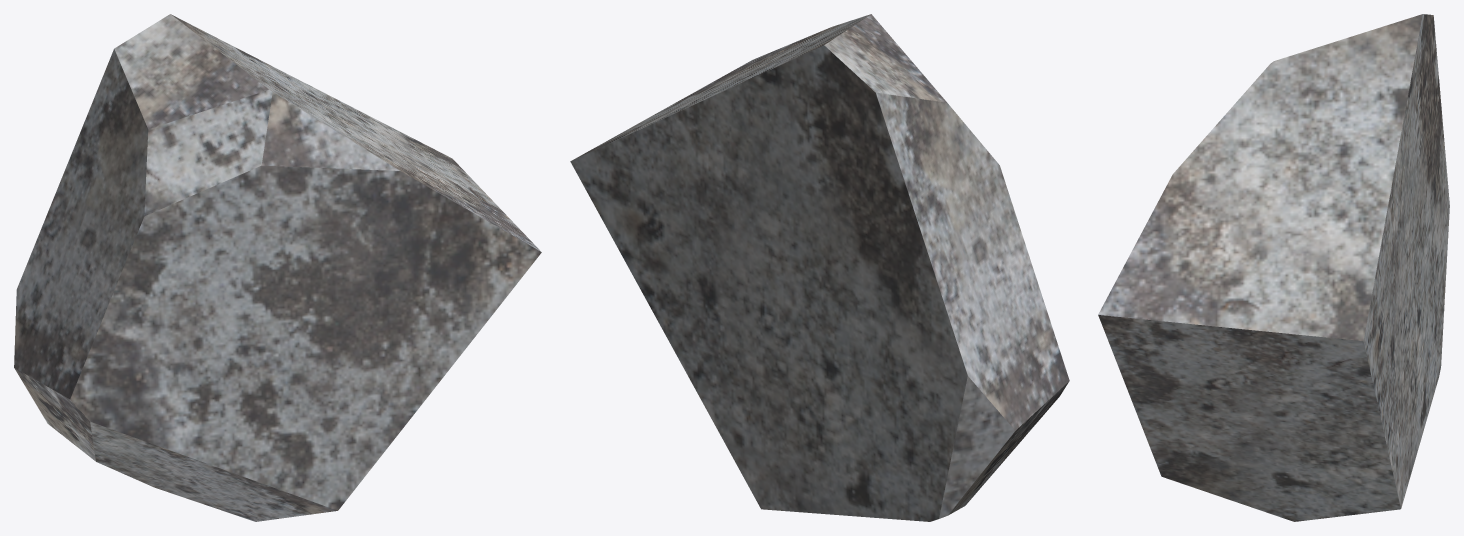
Rendered from Asteroid_Large_001_02_006_03_015.fbx.
The picture shows the model from 3 angles, left to right: view 1: azimuth 30°, elevation 25°; view 2: azimuth 150°, elevation 25°; view 3: azimuth 270°, elevation 25°; orthographic projection. The views are drawn at different scales.
Parts seen in each view (by area): view 1: Asteroid_Large_001_02_006_03_015; view 2: Asteroid_Large_001_02_006_03_015; view 3: Asteroid_Large_001_02_006_03_015.
Part boxes in pixels (x1,y1,x2,y2): Asteroid_Large_001_02_006_03_015: [14, 14, 541, 521]; Asteroid_Large_001_02_006_03_015: [570, 14, 1069, 521]; Asteroid_Large_001_02_006_03_015: [1098, 14, 1449, 521].
Bounding box in the file's own units: 9.52 × 10.23 × 6.58.
